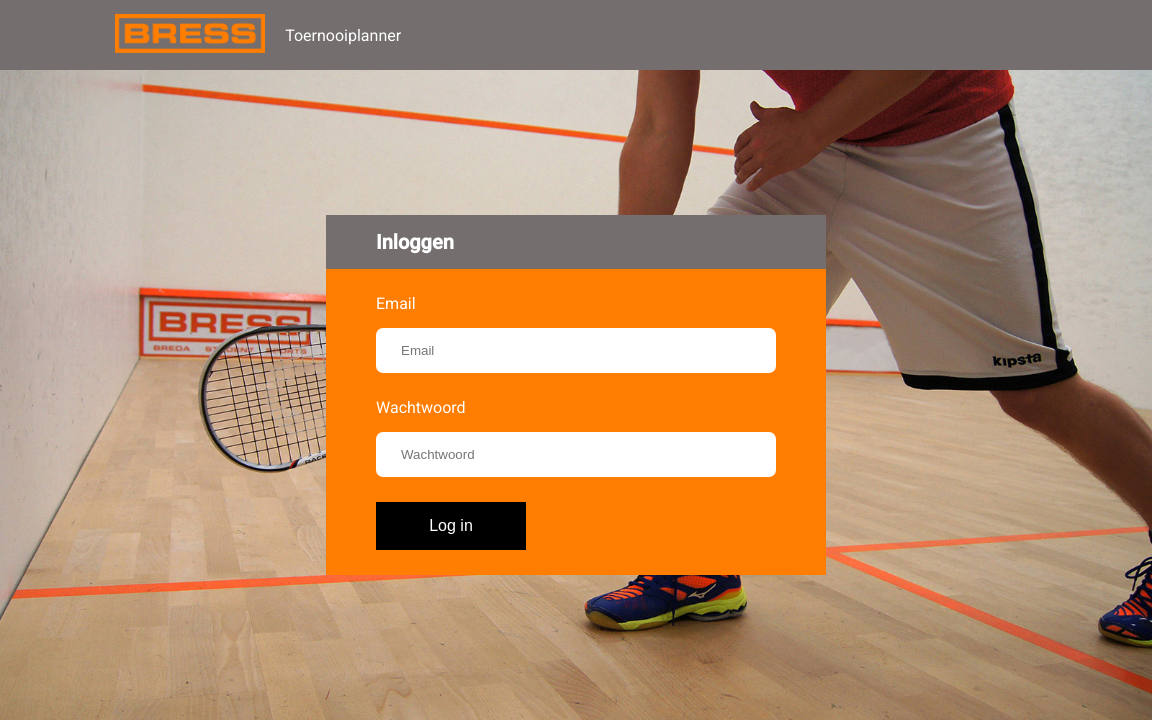
Test: Login test › should get an error on a wrong email
Type "j.doe email.nl" into the field with placeholder "Email". click: (576, 351)
box: [376,328,776,373]
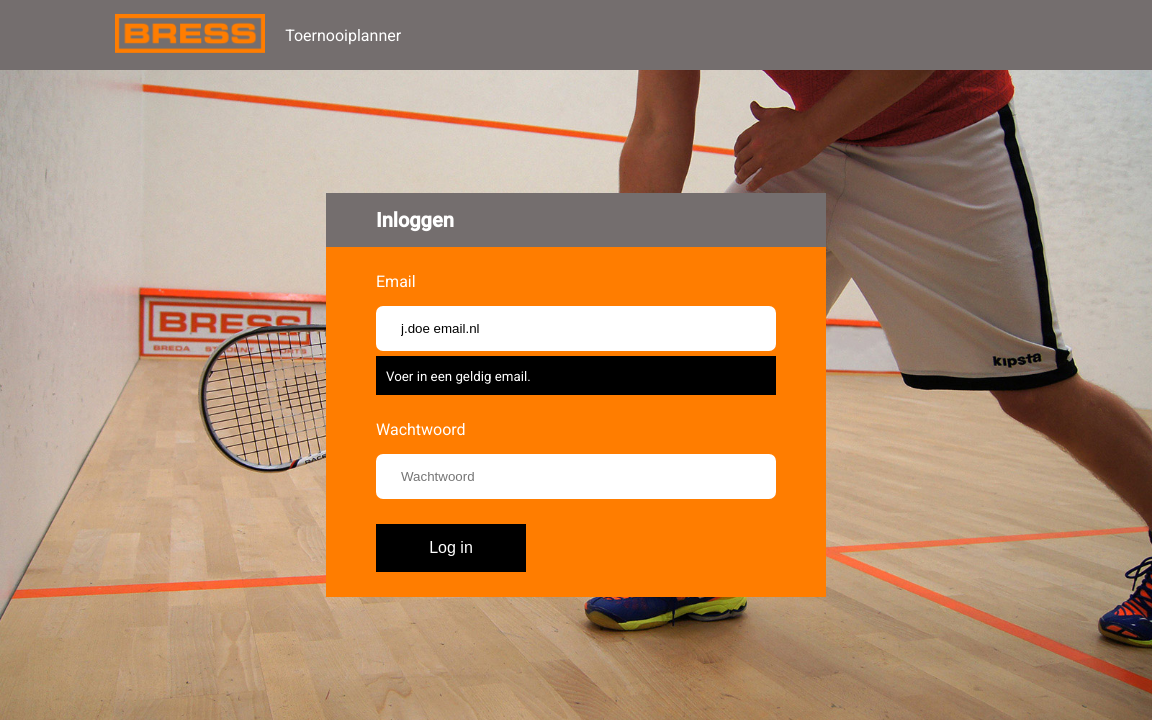
Expected: the number of buttons is 1, [376,524,526,572]
Expected: the text "Voer in een geldig email." is shown, [386,369,531,384]
